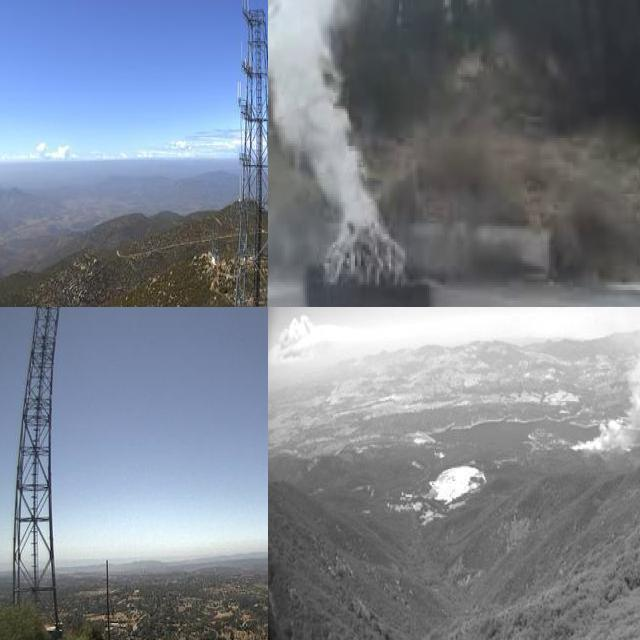smoke: (268, 0, 451, 226), (563, 331, 640, 459)
